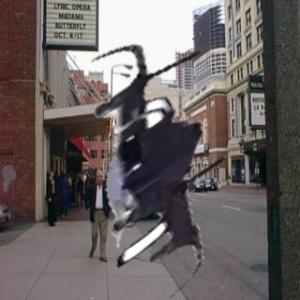drone: (25, 36, 287, 298)
